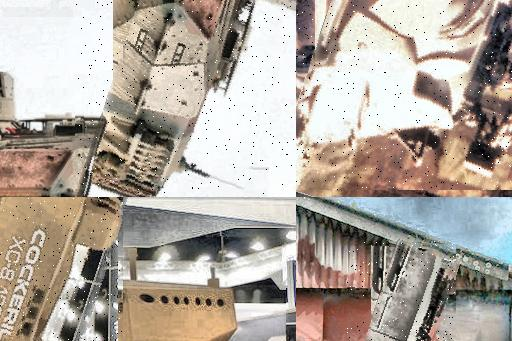tanks: (297, 1, 512, 191), (77, 1, 257, 198), (1, 198, 124, 341), (367, 242, 456, 341)
